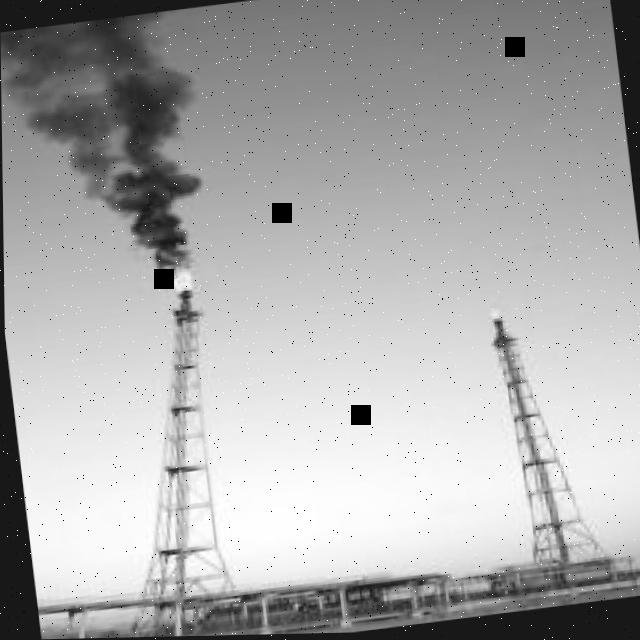fire: (155, 245, 191, 291)
smoke: (0, 10, 203, 259)
